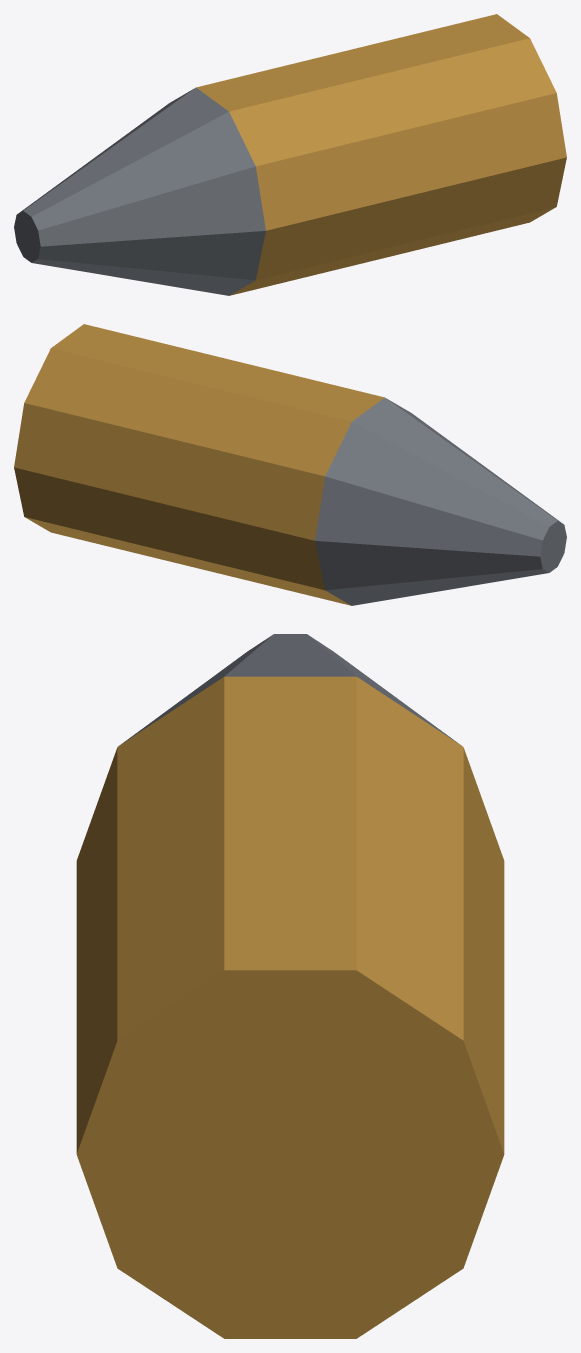
3 renders of one model, top to bottom at view 1: azimuth 30°, elevation 25°; view 2: azimuth 150°, elevation 25°; view 3: azimuth 270°, elevation 25°, orthographic. The views are drawn at different scales.
Parts seen in each view (by area): view 1: B_762x39_Body, B_762x39_Tip; view 2: B_762x39_Body, B_762x39_Tip; view 3: B_762x39_Body, B_762x39_Tip.
Part boxes in pixels (left/top/right/bottom): B_762x39_Body: left=196, top=14, right=566, bottom=295; B_762x39_Tip: left=14, top=87, right=265, bottom=295; B_762x39_Body: left=14, top=324, right=384, bottom=605; B_762x39_Tip: left=315, top=397, right=566, bottom=605; B_762x39_Body: left=76, top=676, right=504, bottom=1338; B_762x39_Tip: left=119, top=634, right=461, bottom=745.
Bounding box in the file's own units: 0.042 × 0.0152 × 0.016.
